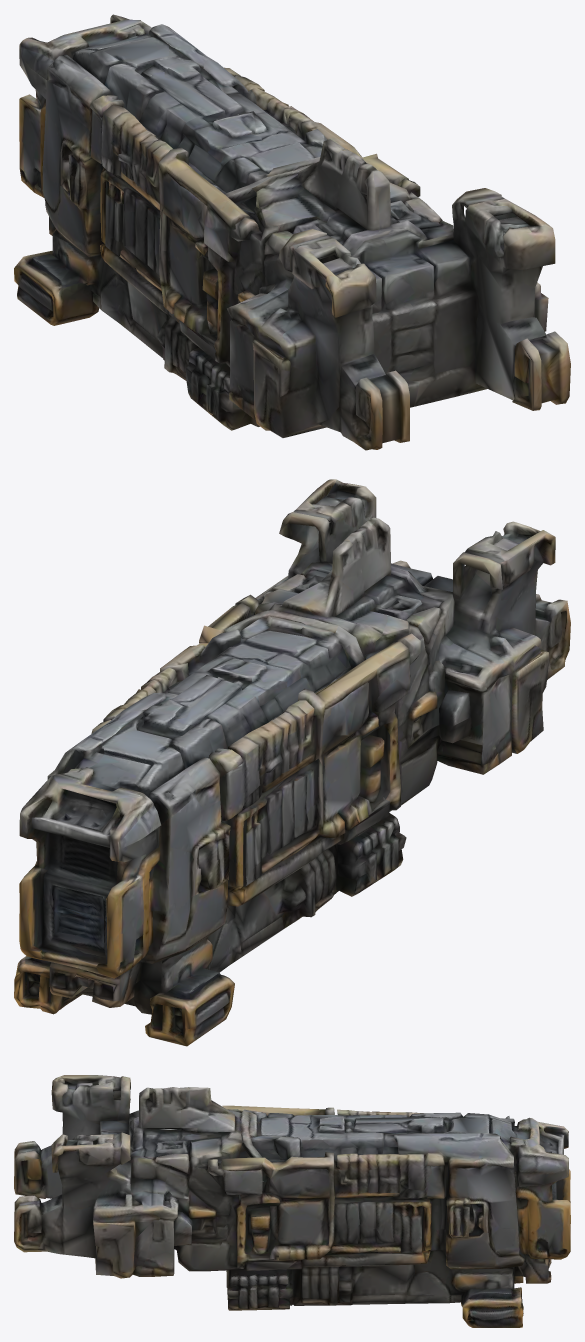
Rendered from dropship.glb.
3 views of the same model, one above another, from view 1: azimuth 30°, elevation 25°; view 2: azimuth 150°, elevation 25°; view 3: azimuth 270°, elevation 25° (orthographic). The views are drawn at different scales.
Visible parts, largest first — view 1: tripo_node_d9a86ced-c4a1-4e03-b5e9-ef6e07ad3300; view 2: tripo_node_d9a86ced-c4a1-4e03-b5e9-ef6e07ad3300; view 3: tripo_node_d9a86ced-c4a1-4e03-b5e9-ef6e07ad3300.
Boxes of the visible parts, x1=… form: tripo_node_d9a86ced-c4a1-4e03-b5e9-ef6e07ad3300: x1=14, y1=14, x2=570, y2=450; tripo_node_d9a86ced-c4a1-4e03-b5e9-ef6e07ad3300: x1=14, y1=479, x2=570, y2=1046; tripo_node_d9a86ced-c4a1-4e03-b5e9-ef6e07ad3300: x1=14, y1=1075, x2=570, y2=1327.
Bounding box in the file's own units: 0.38 × 0.4241 × 0.9999.
1 material, 1 textured.
